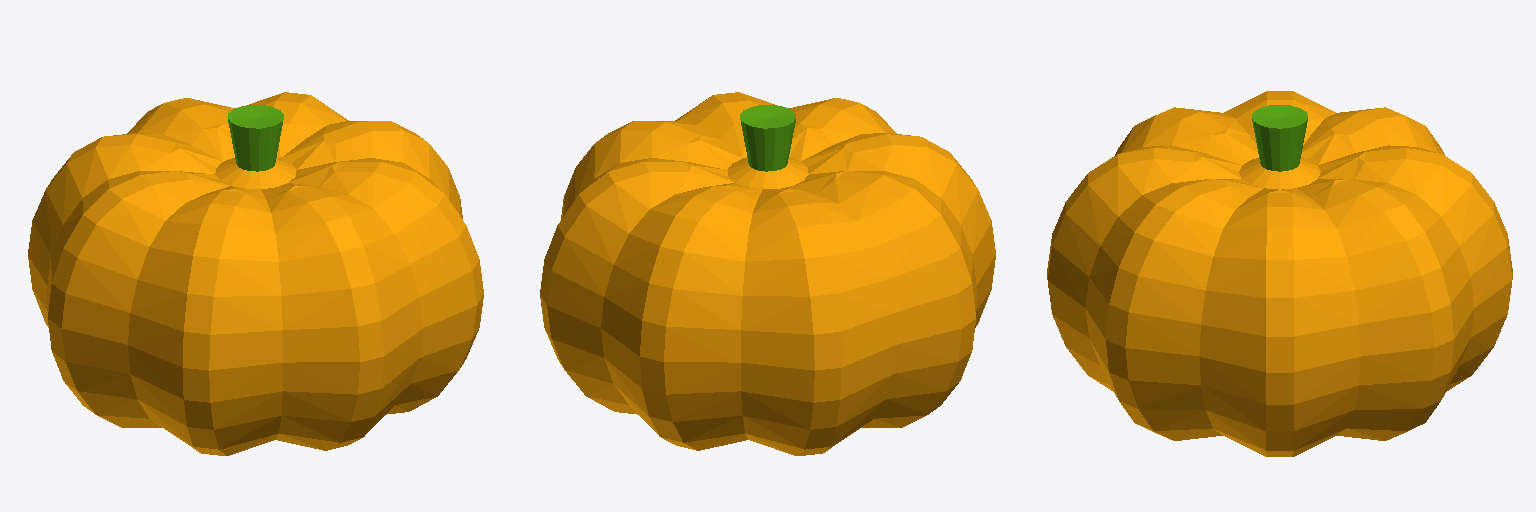
3 renders of one model, left to right at view 1: azimuth 30°, elevation 25°; view 2: azimuth 150°, elevation 25°; view 3: azimuth 270°, elevation 25°, orthographic.
Parts seen in each view (by area): view 1: 球.001; view 2: 球.001; view 3: 球.001.
Boxes of the visible parts, box(x1,y1,x2,y2) form: 球.001: box(28, 92, 483, 455); 球.001: box(540, 92, 995, 455); 球.001: box(1047, 91, 1512, 456).
Bounding box in the file's own units: 2.21 × 1.46 × 2.21.
Materials: 1 (1 with a texture image).